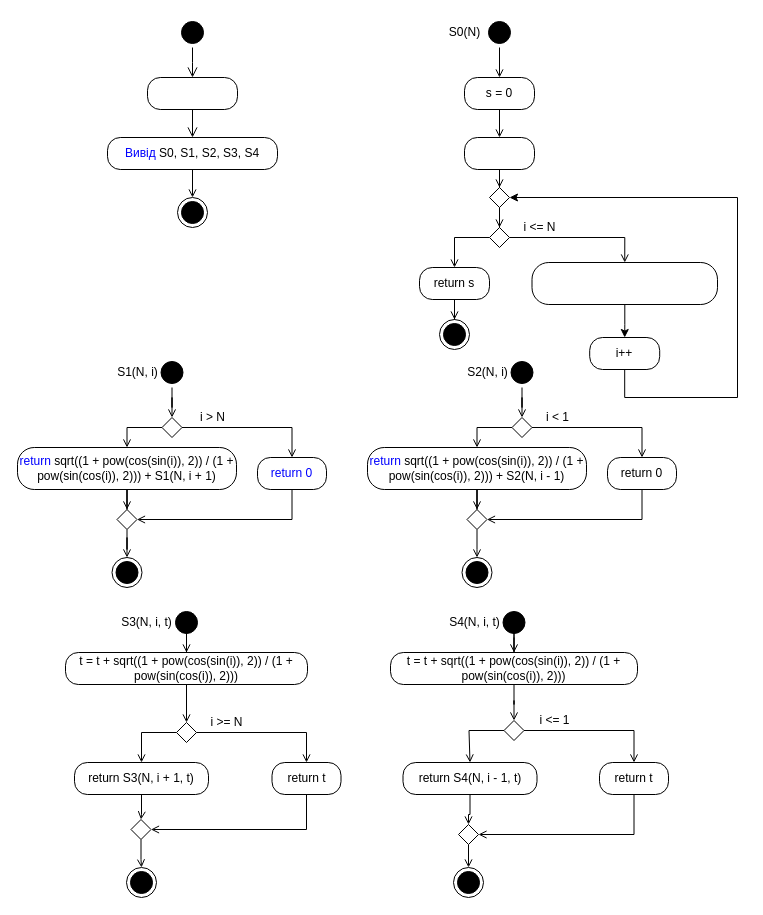
Some shapes in this 763 by 915 pixel diagram are drawn without their labels. The shapes that lost their labels are listed below. From the top down, each one's centre as x and y in pixels, then its label:
point (192, 93): Ввід N
point (499, 153): i = 1
point (624, 283): s += sqrt((1 + pow(cos(sin(i)), 2)) / (1 + pow(sin(cos(i)), 2)))
